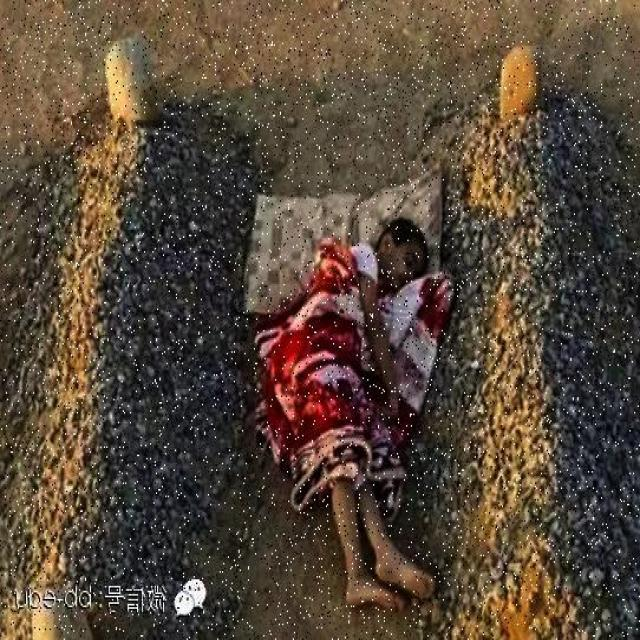fall: (278, 220, 442, 602)
